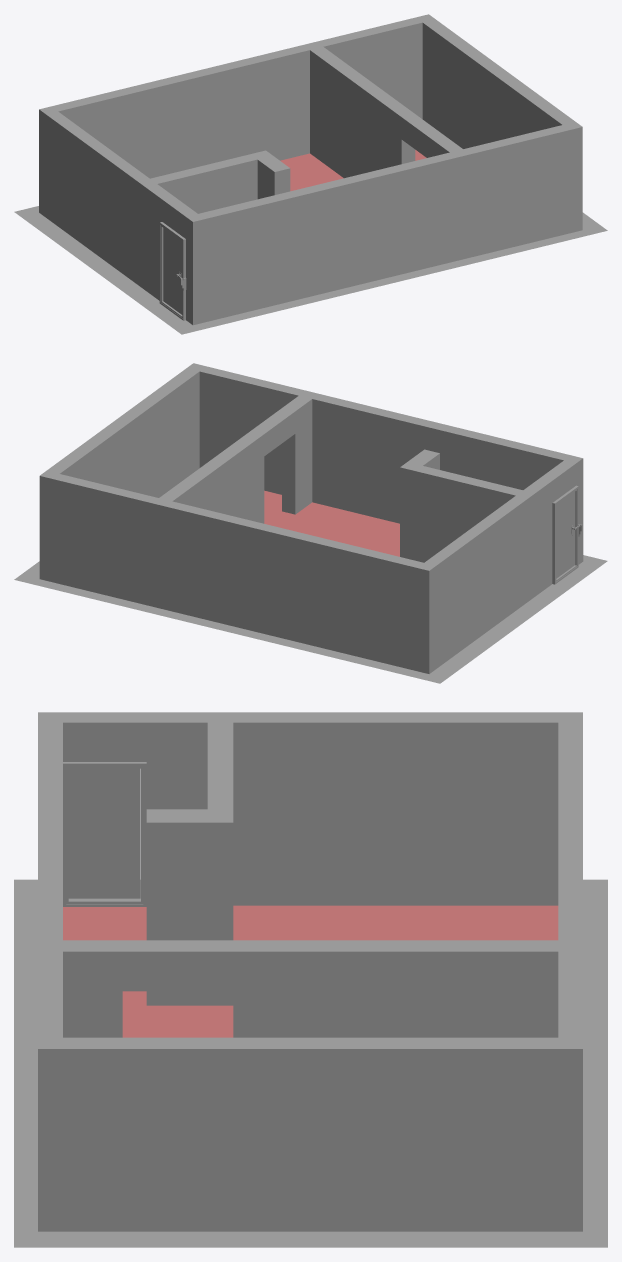
File: HouseTest.fbx
3 views of the same model, one above another, from view 1: azimuth 30°, elevation 25°; view 2: azimuth 150°, elevation 25°; view 3: azimuth 270°, elevation 25° (orthographic). The views are drawn at different scales.
Parts seen in each view (by area): view 1: pPlane1, pCube2, pCube1; view 2: pPlane1, pCube2, pCube1; view 3: pPlane1, pCube2, pCube1.
Part boxes in pixels (box(x1,y1,x2,y2)): pPlane1: box(14, 14, 607, 334); pCube2: box(163, 228, 182, 314); pCube1: box(159, 222, 185, 320); pPlane1: box(14, 363, 607, 683); pCube2: box(556, 492, 575, 578); pCube1: box(552, 485, 578, 584); pPlane1: box(14, 712, 607, 1247); pCube2: box(68, 768, 140, 898); pCube1: box(63, 762, 146, 906).
Size of the model in its own units: 37.84 by 8.78 by 25.8.
